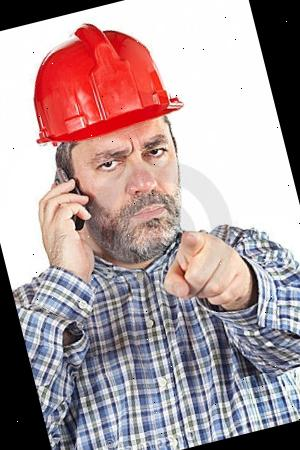helmet: (10, 5, 189, 156)
no_wear: (11, 222, 300, 450)
